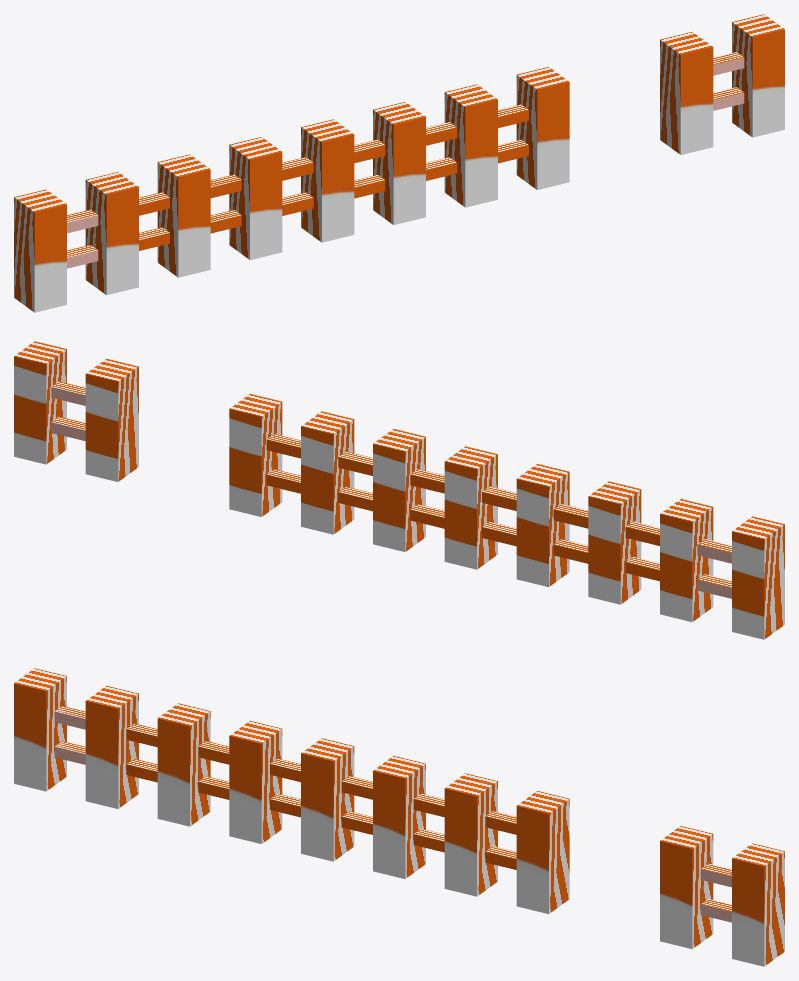
Rendered from Fence1.fbx.
3 views of the same model, one above another, from view 1: azimuth 30°, elevation 25°; view 2: azimuth 150°, elevation 25°; view 3: azimuth 330°, elevation 25° (orthographic).
Visible parts, largest first — view 1: fence_short_mesh; view 2: fence_short_mesh; view 3: fence_short_mesh.
Part boxes in pixels (x1,y1,x2,y2): fence_short_mesh: (14, 14, 784, 312); fence_short_mesh: (14, 341, 784, 639); fence_short_mesh: (14, 668, 784, 966).
Bounding box in the file's own units: 836 × 107 × 39.99.
